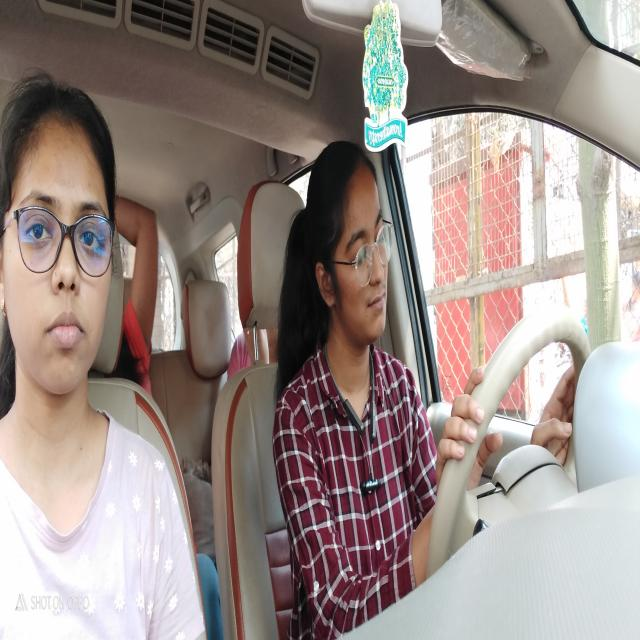drowsy: (304, 139, 395, 357)
person: (0, 72, 124, 420)
